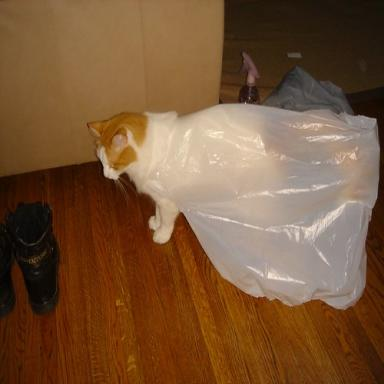cat: (84, 106, 207, 249)
plastic bag: (145, 102, 380, 310)
